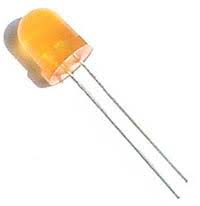LED: (16, 7, 190, 200)
